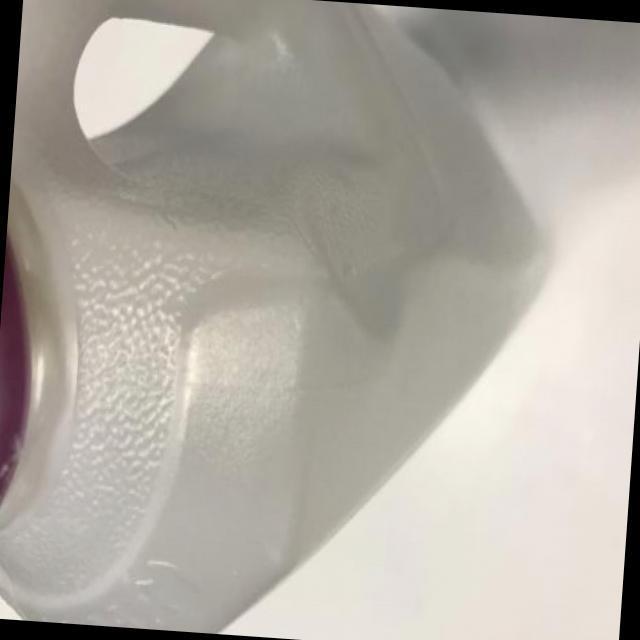HDPE Plastic: (0, 3, 555, 635)
